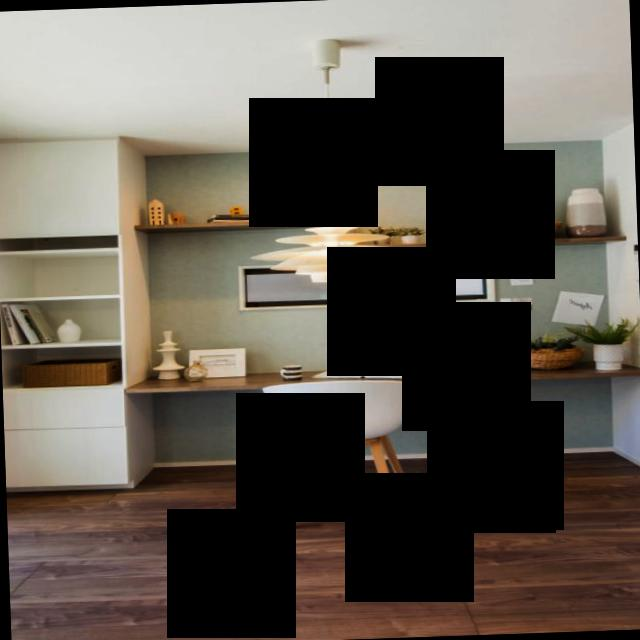natural chair: (267, 377, 430, 522)
